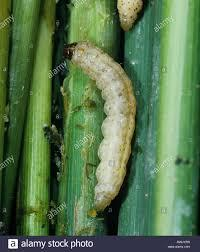insect: (60, 33, 142, 217), (108, 0, 153, 35)
